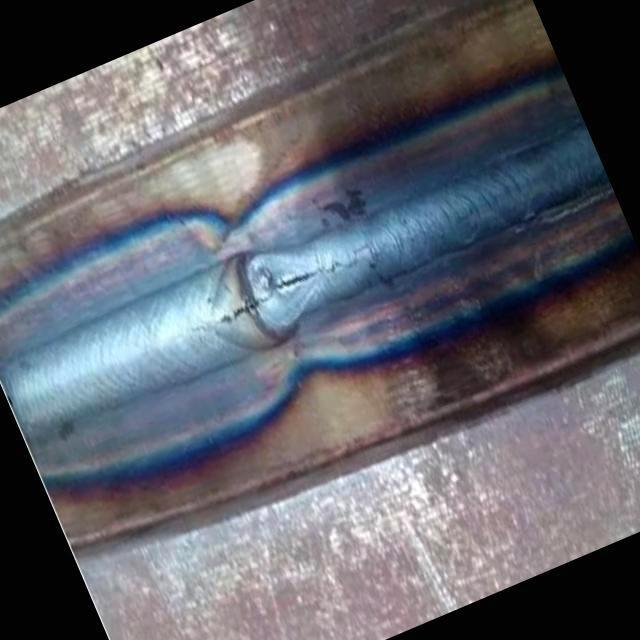defect: (216, 241, 382, 333)
